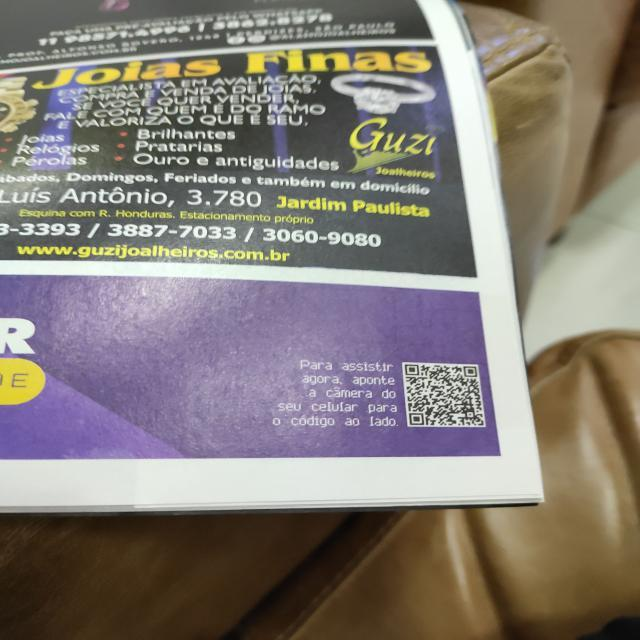qr_code: (404, 364, 484, 426)
